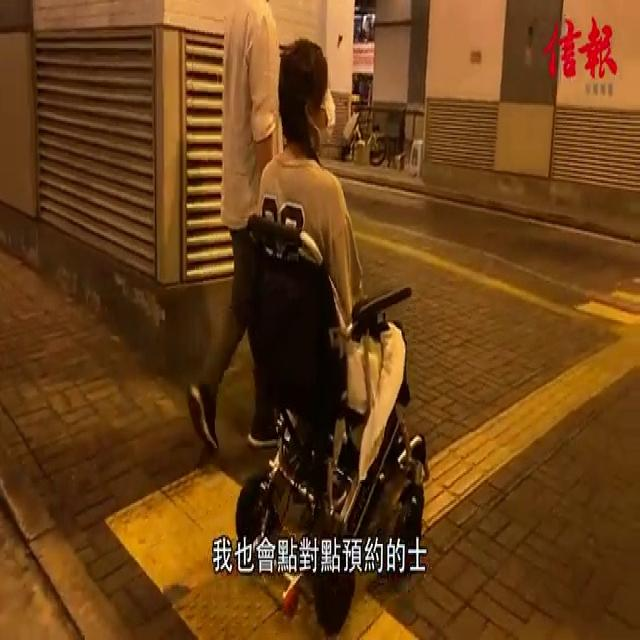wheelchairs: (237, 235, 437, 618)
